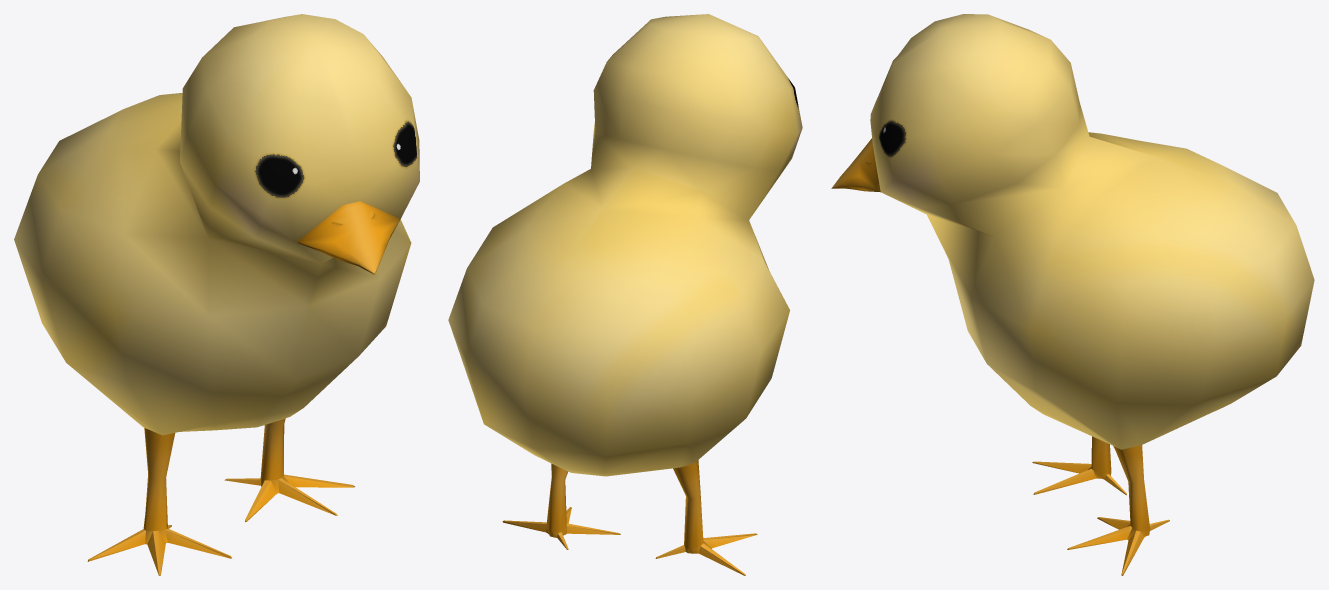
Rendered from Chick.fbx.
3 renders of one model, left to right at view 1: azimuth 30°, elevation 25°; view 2: azimuth 150°, elevation 25°; view 3: azimuth 270°, elevation 25°, orthographic. The views are drawn at different scales.
Parts seen in each view (by area): view 1: Chick, Chick_leg_right, Chick_leg_Left; view 2: Chick, Chick_leg_right, Chick_leg_Left; view 3: Chick, Chick_leg_Left, Chick_leg_right.
Boxes of the visible parts, bbox=[...] form: Chick: bbox=[14, 14, 419, 435]; Chick_leg_right: bbox=[87, 428, 231, 575]; Chick_leg_Left: bbox=[224, 418, 354, 521]; Chick: bbox=[448, 14, 802, 476]; Chick_leg_right: bbox=[655, 460, 757, 575]; Chick_leg_Left: bbox=[502, 463, 620, 549]; Chick: bbox=[831, 14, 1314, 449]; Chick_leg_Left: bbox=[1067, 445, 1169, 575]; Chick_leg_right: bbox=[1032, 436, 1126, 495].
Bounding box in the file's own units: 3.66 × 5.76 × 5.15.
1 material, 1 textured.
